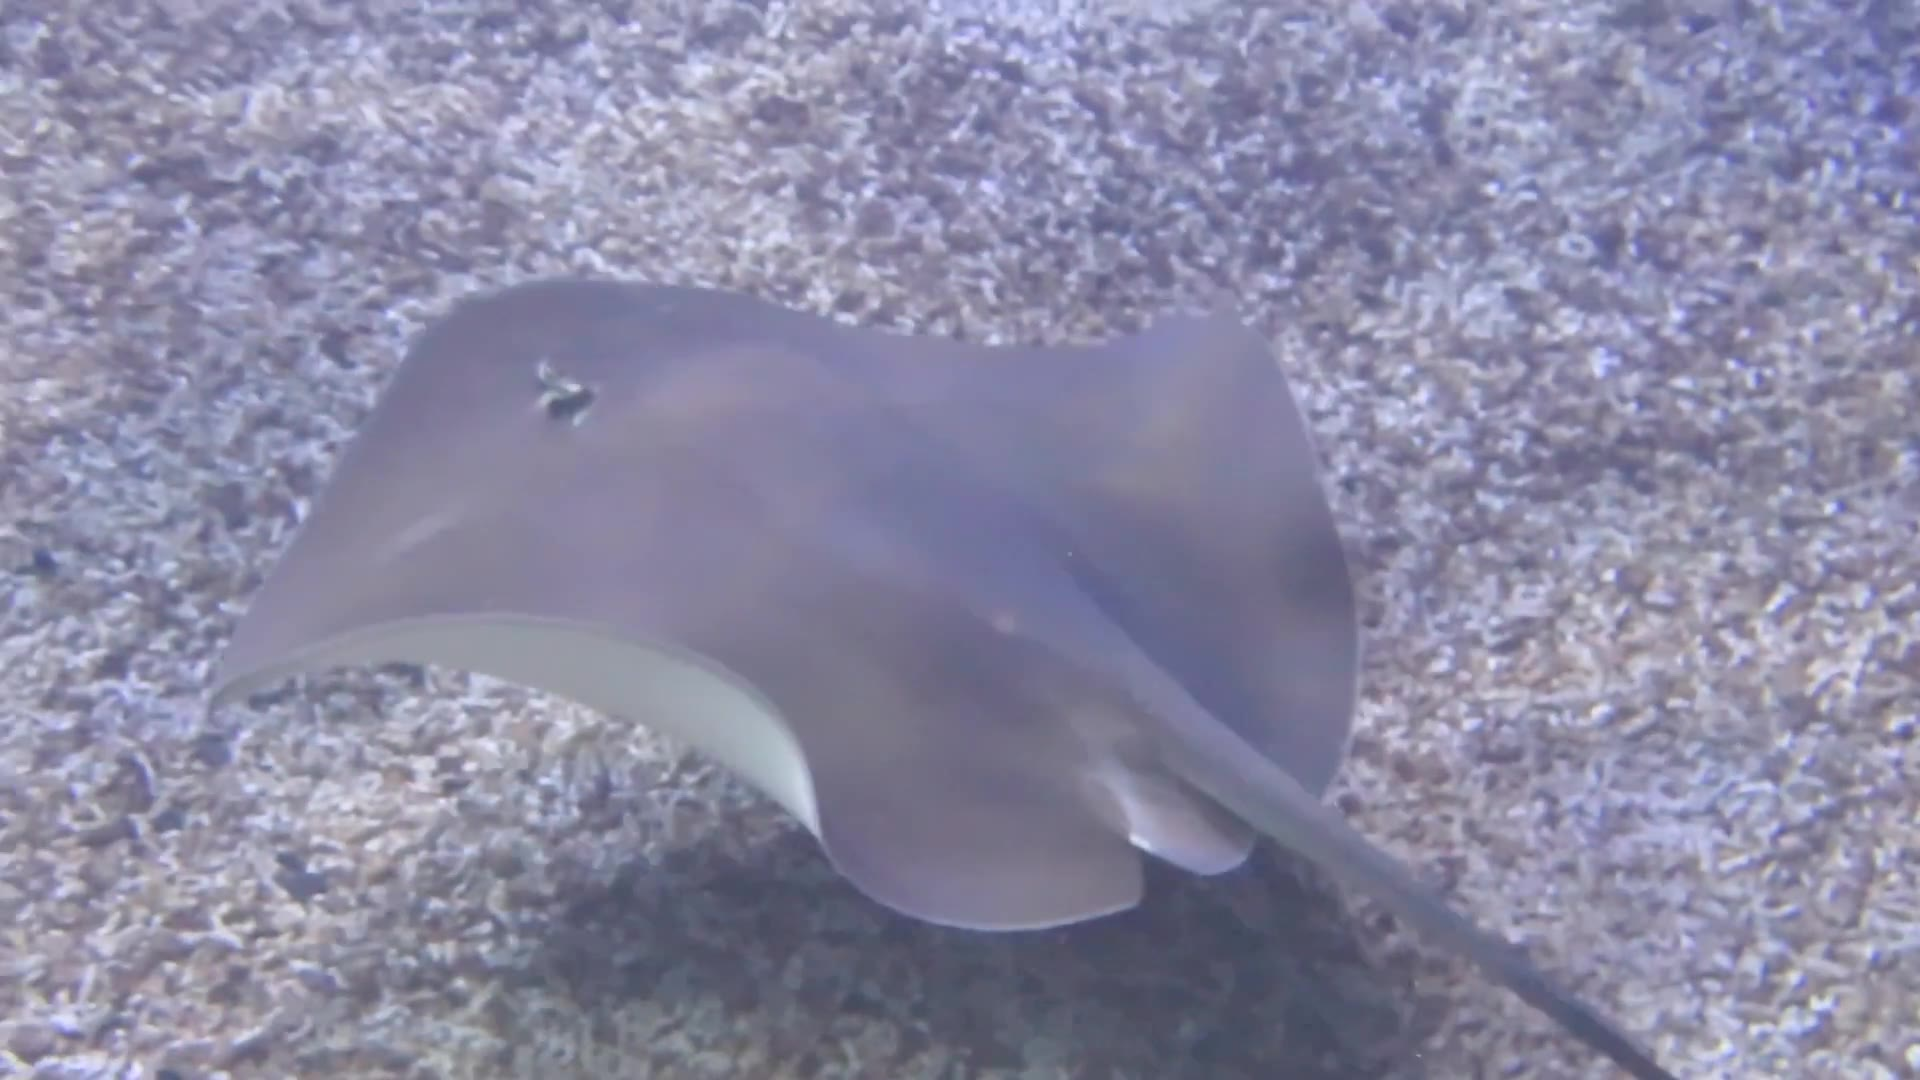Dasyatis akajei: (186, 187, 1696, 1080)
